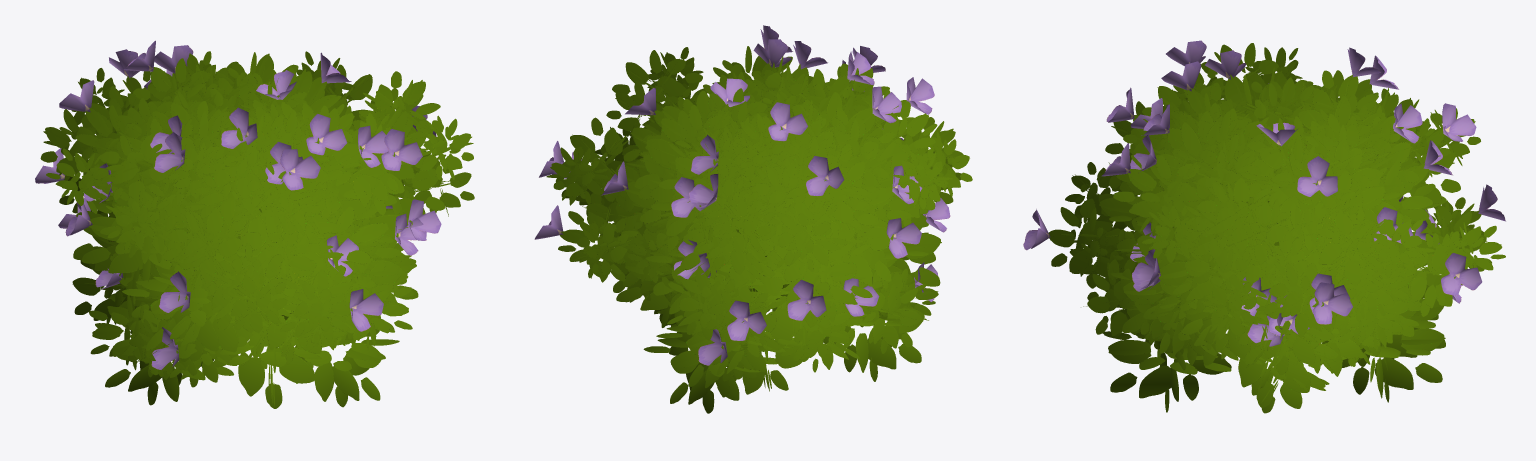
File: Bush_Common_Flowers.gltf
The picture shows the model from 3 angles, left to right: view 1: azimuth 30°, elevation 25°; view 2: azimuth 150°, elevation 25°; view 3: azimuth 270°, elevation 25°; orthographic projection. The views are drawn at different scales.
Parts seen in each view (by area): view 1: Bush_Common_Flowers; view 2: Bush_Common_Flowers; view 3: Bush_Common_Flowers.
Part boxes in pixels (bbox=[...]): Bush_Common_Flowers: bbox=[35, 40, 474, 408]; Bush_Common_Flowers: bbox=[534, 25, 972, 413]; Bush_Common_Flowers: bbox=[1023, 40, 1505, 413].
Size of the model in its own units: 1.91 by 1.58 by 1.97.
Materials: 2 (2 with a texture image).
